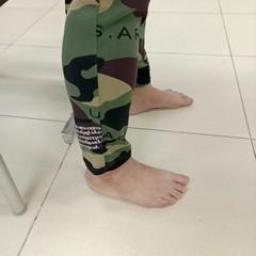Lateral View -Right Foot-: (69, 131, 205, 221)
